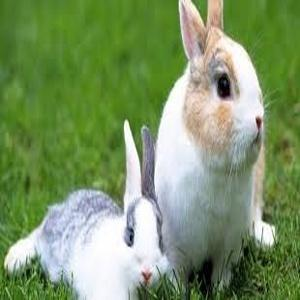rabbit: (12, 0, 274, 300)
